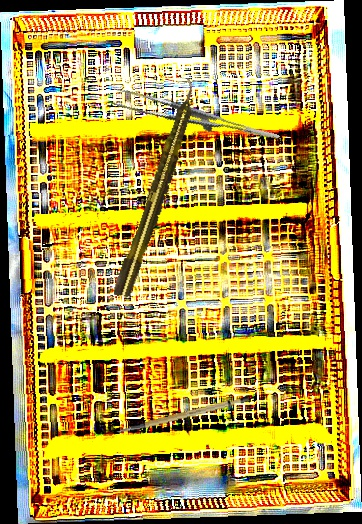Handpiece: (110, 76, 206, 301)
Scalpel Handle: (113, 393, 251, 435)
Tissue Forceps: (110, 72, 281, 167)
